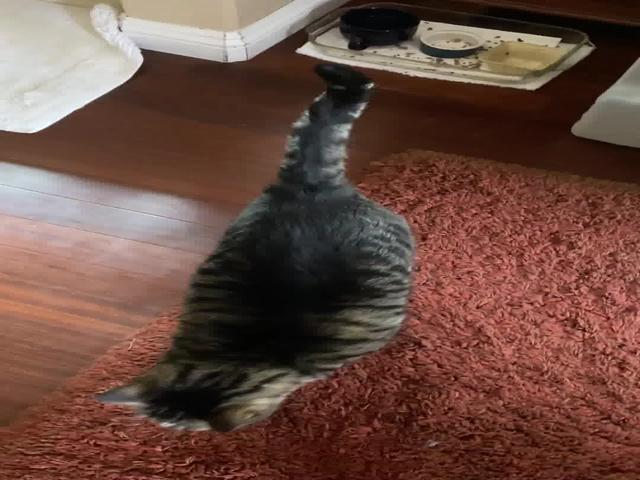playdoh: (96, 59, 413, 429)
